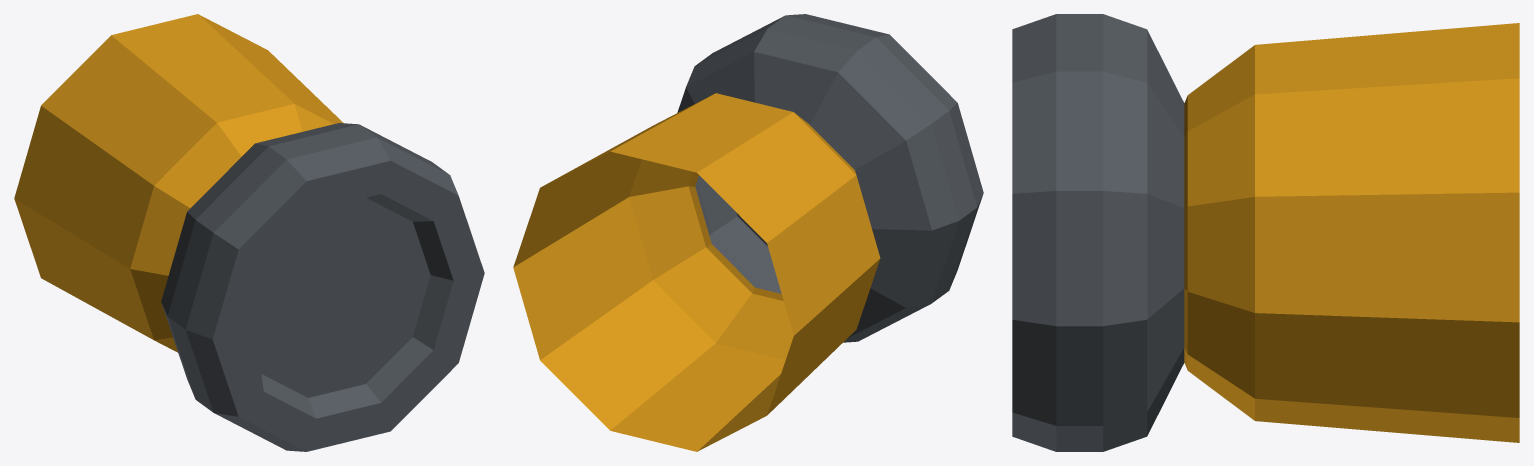
File: Personal_Vehicle_01_Head_Light_Small_Yellow.fbx
The picture shows the model from 3 angles, left to right: view 1: azimuth 30°, elevation 25°; view 2: azimuth 150°, elevation 25°; view 3: azimuth 270°, elevation 25°; orthographic projection. The views are drawn at different scales.
Parts seen in each view (by area): view 1: Personal_Vehicle_01_Head_Light_Small_Yellow; view 2: Personal_Vehicle_01_Head_Light_Small_Yellow; view 3: Personal_Vehicle_01_Head_Light_Small_Yellow.
Part boxes in pixels (left/top/right/bottom): Personal_Vehicle_01_Head_Light_Small_Yellow: left=14, top=14, right=484, bottom=451; Personal_Vehicle_01_Head_Light_Small_Yellow: left=513, top=14, right=983, bottom=451; Personal_Vehicle_01_Head_Light_Small_Yellow: left=1012, top=14, right=1519, bottom=451.
Size of the model in its own units: 14.07 by 13.38 by 16.18.
2 materials, 2 textured.
